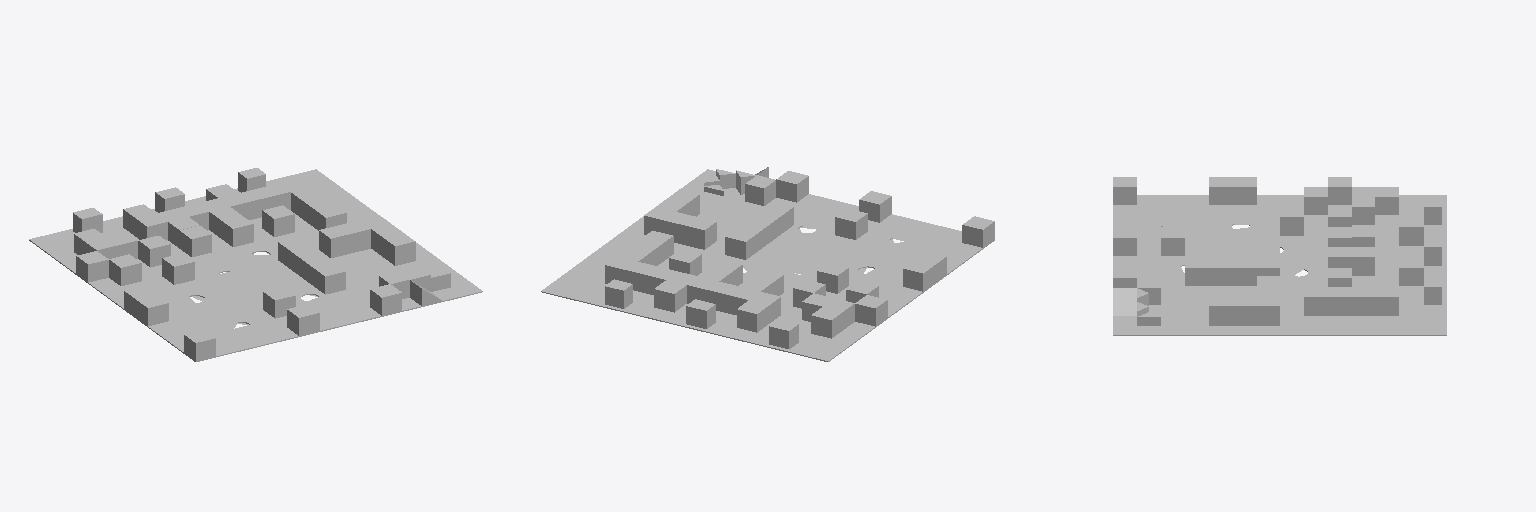
The model's file is Nivel3.obj.
3 renders of one model, left to right at view 1: azimuth 30°, elevation 25°; view 2: azimuth 150°, elevation 25°; view 3: azimuth 270°, elevation 25°, orthographic.
Parts seen in each view (by area): view 1: Cube; view 2: Cube; view 3: Cube.
Boxes of the visible parts, x1=… form: Cube: x1=29, y1=168, x2=482, y2=361; Cube: x1=541, y1=167, x2=994, y2=361; Cube: x1=1113, y1=177, x2=1446, y2=335.
Bounding box in the file's own units: 27.8 × 1.92 × 27.93.